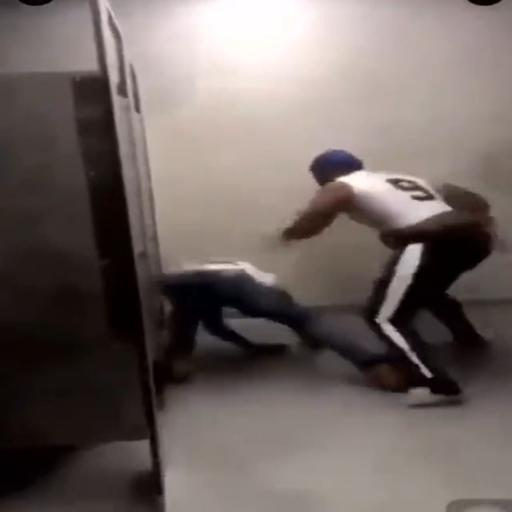violencia: (146, 135, 504, 415)
